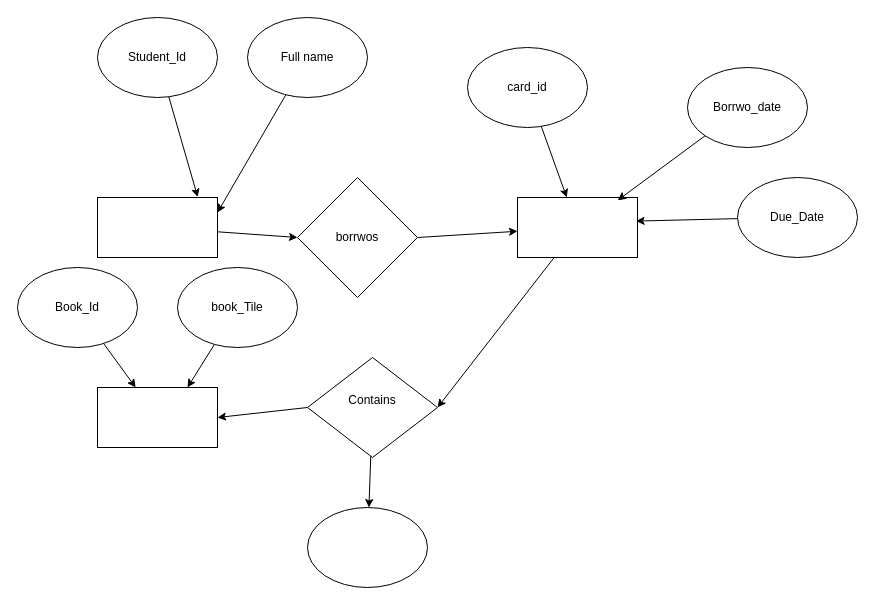
Image size: 875x605. Some labels were removed from this diagram. The centre of each missing label's shape, as x and y in pixels:
"Book" goes at (157,417).
"Loan card" goes at (577,227).
"STATUS" goes at (367,547).
"Student" goes at (157,227).
